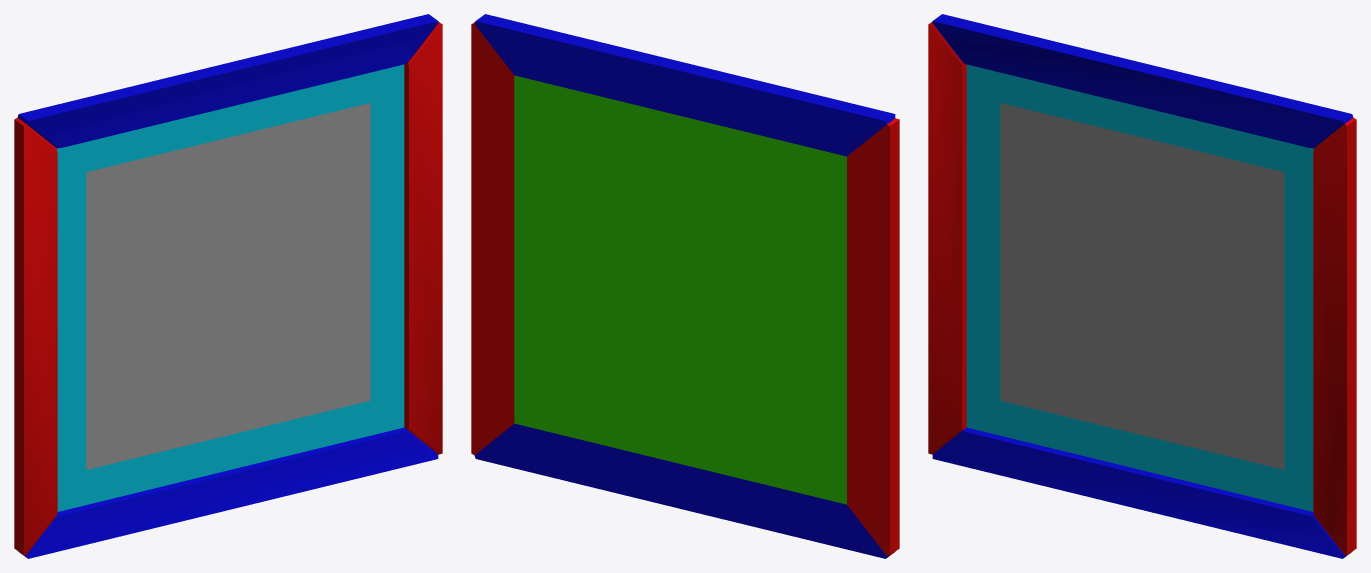
File: black_pictureframe.FBX
The picture shows the model from 3 angles, left to right: view 1: azimuth 30°, elevation 25°; view 2: azimuth 150°, elevation 25°; view 3: azimuth 330°, elevation 25°; orthographic projection.
Visible parts, largest first — view 1: picture_frame, picture; view 2: picture_frame; view 3: picture_frame, picture.
Part boxes in pixels (<box>): picture_frame: <box>14,14,442,558</box>; picture: <box>86,103,370,469</box>; picture_frame: <box>471,14,899,558</box>; picture_frame: <box>928,14,1356,558</box>; picture: <box>1000,103,1284,469</box>.
Size of the model in its own units: 0.5 by 0.02 by 0.5.
